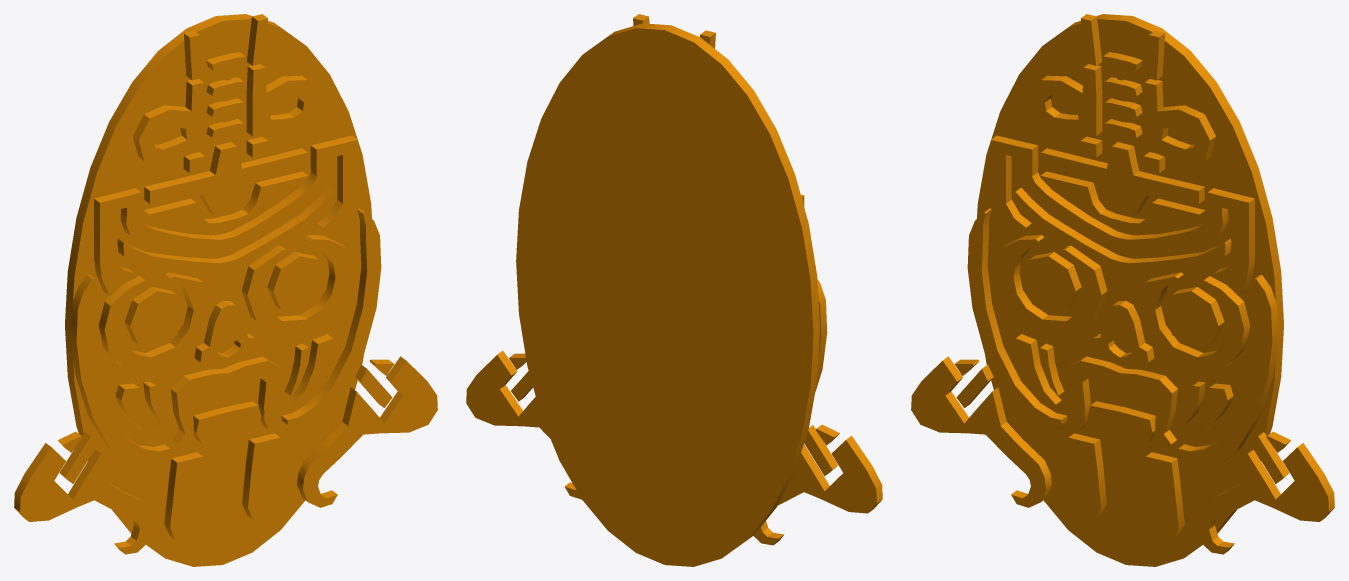
The model's file is mask.fbx.
3 renders of one model, left to right at view 1: azimuth 30°, elevation 25°; view 2: azimuth 150°, elevation 25°; view 3: azimuth 330°, elevation 25°, orthographic.
Visible parts, largest first — view 1: Circle; view 2: Circle; view 3: Circle.
Boxes of the visible parts, <box> form: Circle: <box>14,14,437,566</box>; Circle: <box>466,14,882,566</box>; Circle: <box>911,14,1334,566</box>.
Bounding box in the file's own units: 218 × 271 × 11.57.
